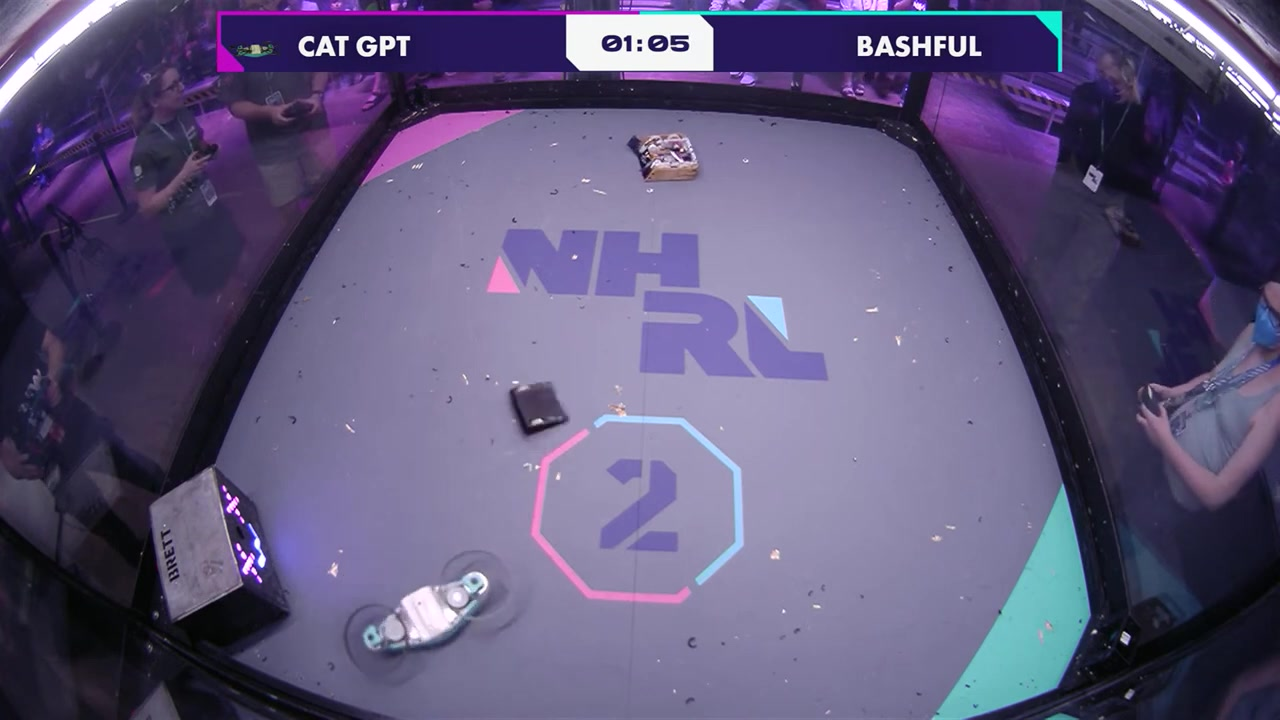combatbot: (341, 545, 518, 674), (627, 132, 701, 184)
housebot: (149, 466, 293, 646)
minibot: (506, 380, 569, 437)
